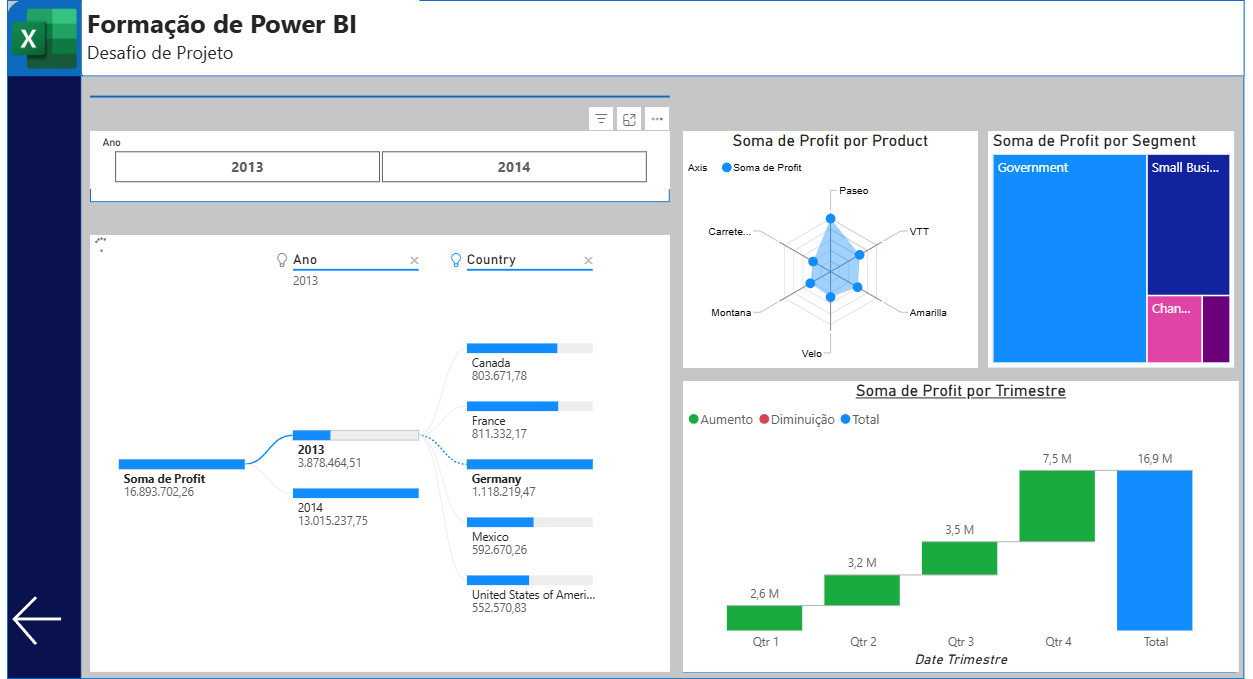

The dashboard page shown, as its layout file describes it:
{"tool":"powerbi","page":{"name":"Página 2","canvas":[1280,720],"ordinal":1},"visuals":[{"type":"shape","box":[0,0,1280,702.5],"z":0},{"type":"shape","box":[0,0,77.1,702.5],"z":1000},{"type":"shape","box":[0,0,77.3,79],"z":2000},{"type":"shape","box":[85.7,243.3,599.7,452.4],"z":3000},{"type":"shape","box":[699.1,394.1,572.3,301.6],"z":4000},{"type":"shape","box":[699.1,135.4,305,245],"z":5000},{"type":"shape","box":[1014.4,135.4,255.3,245],"z":6000},{"type":"shape","box":[85.7,135.4,599.7,73.7],"z":7000},{"type":"shape","box":[85.9,77.3,599.6,44.7],"z":8000},{"type":"RadarChart1446119667547","fields":{"Category":["financials.Product"],"Y":["Sum(financials.Profit)"]},"box":[699.1,135.4,305,245],"z":9000},{"type":"treemap","fields":{"Values":["Sum(financials.Profit)"],"Group":["financials.Segment"]},"box":[1014.4,135.4,255.3,245],"z":10000},{"type":"waterfallChart","fields":{"Y":["Sum(financials.Profit)"],"Category":["financials.Date.Variation.Hierarquia de datas.Trimestre"]},"box":[699.5,393.7,575.1,301.5],"z":11000},{"type":"decompositionTreeVisual","fields":{"Analyze":["Sum(financials.Profit)"],"ExplainBy":["financials.Date.Variation.Hierarquia de datas.Ano","financials.Country"]},"box":[85.7,243.3,599.7,452.4],"z":12000},{"type":"slicer","fields":{"Values":["financials.Date.Variation.Hierarquia de datas.Ano"]},"box":[85.7,135.4,599.7,60],"z":13000},{"type":"actionButton","box":[0,610,77.1,63.4],"z":14000},{"type":"image","box":[0,0,77.3,79],"z":15000},{"type":"shape","box":[77.3,0,1202.7,79],"z":16000},{"type":"textbox","box":[77.3,0,348.8,77.3],"z":16002}]}

Visuals, with their boxes on the page's 1280x720 design canvas (x1, y1, x2, y2). These are canvas units, not pixel positions in the 1253x679 screenshot, which may show the page scaled, cropped or inside an application window:
shape: x1=0, y1=0, x2=1280, y2=702
shape: x1=0, y1=0, x2=77, y2=702
shape: x1=0, y1=0, x2=77, y2=79
shape: x1=86, y1=243, x2=685, y2=696
shape: x1=699, y1=394, x2=1271, y2=696
shape: x1=699, y1=135, x2=1004, y2=380
shape: x1=1014, y1=135, x2=1270, y2=380
shape: x1=86, y1=135, x2=685, y2=209
shape: x1=86, y1=77, x2=686, y2=122
RadarChart1446119667547 - financials.Product x Sum(financials.Profit): x1=699, y1=135, x2=1004, y2=380
treemap - Sum(financials.Profit) x financials.Segment: x1=1014, y1=135, x2=1270, y2=380
waterfallChart - Sum(financials.Profit) x financials.Date.Variation.Hierarquia de datas.Trimestre: x1=700, y1=394, x2=1275, y2=695
decompositionTreeVisual - Sum(financials.Profit) x financials.Date.Variation.Hierarquia de datas.Ano: x1=86, y1=243, x2=685, y2=696
slicer - financials.Date.Variation.Hierarquia de datas.Ano: x1=86, y1=135, x2=685, y2=195
actionButton: x1=0, y1=610, x2=77, y2=673
image: x1=0, y1=0, x2=77, y2=79
shape: x1=77, y1=0, x2=1280, y2=79
textbox: x1=77, y1=0, x2=426, y2=77
